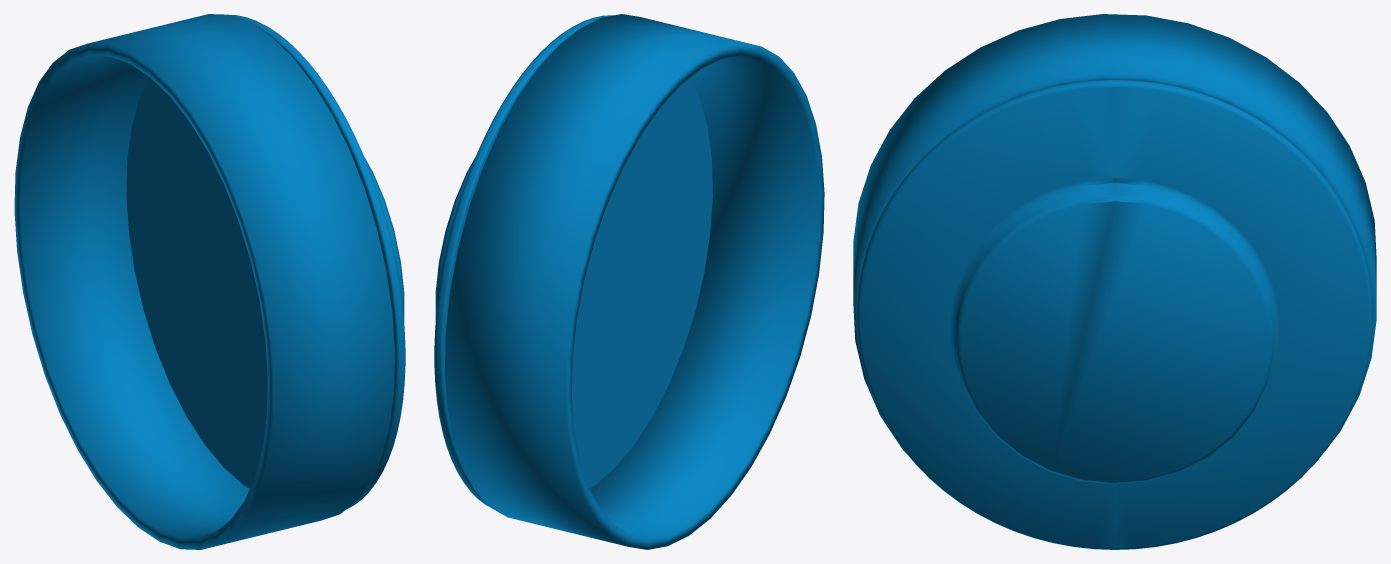
The model's file is wrist_roll_link.obj.
The picture shows the model from 3 angles, left to right: view 1: azimuth 30°, elevation 25°; view 2: azimuth 150°, elevation 25°; view 3: azimuth 270°, elevation 25°; orthographic projection.
Size of the model in its own units: 0.0425 by 0.1039 by 0.1039.
Materials: 1 (1 with a texture image).
